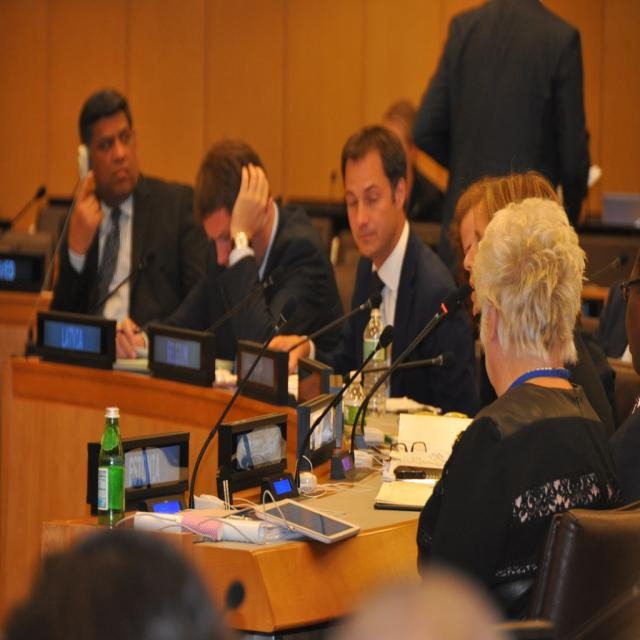chair: (520, 500, 640, 635)
desk: (0, 293, 422, 640)
laptop: (34, 310, 117, 369)
person: (419, 202, 623, 616), (411, 1, 592, 282), (325, 121, 480, 416), (44, 85, 208, 363), (151, 136, 347, 368), (1, 527, 240, 636)
